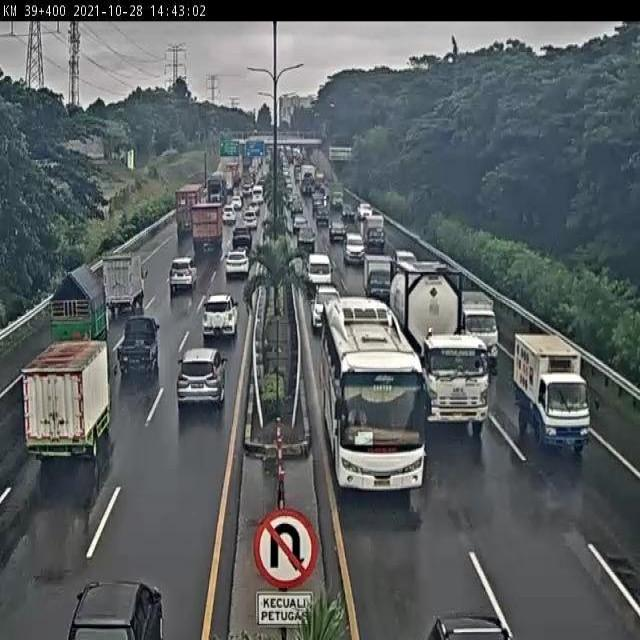big truck: (191, 205, 223, 255)
bus-l-: (320, 293, 429, 495)
car: (175, 342, 229, 410), (200, 295, 241, 340), (311, 285, 342, 336), (305, 255, 334, 296), (170, 257, 196, 291), (343, 232, 366, 267), (227, 249, 248, 275), (234, 228, 255, 249)
small truck: (22, 337, 121, 456), (48, 262, 111, 354), (115, 317, 161, 376), (106, 251, 151, 309)
truck-s-: (513, 329, 594, 447), (454, 288, 499, 357), (364, 254, 395, 302)
truck-xl-: (388, 264, 497, 437)
